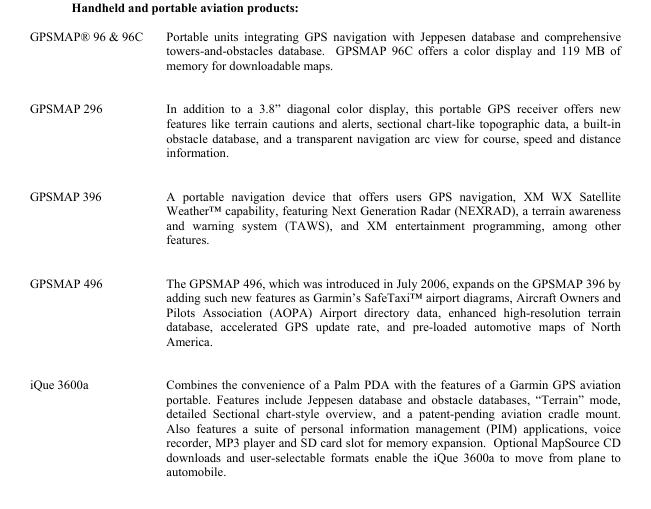table: (28, 28, 620, 478)
table column: (153, 28, 620, 478), (28, 28, 153, 478)
table row: (28, 362, 620, 478), (28, 260, 620, 362), (28, 86, 620, 173), (28, 173, 620, 260), (28, 28, 620, 86)
